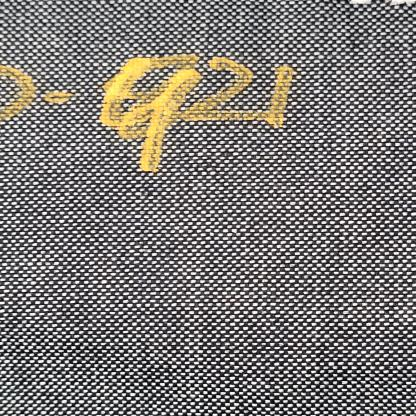spot: (0, 44, 385, 170)
